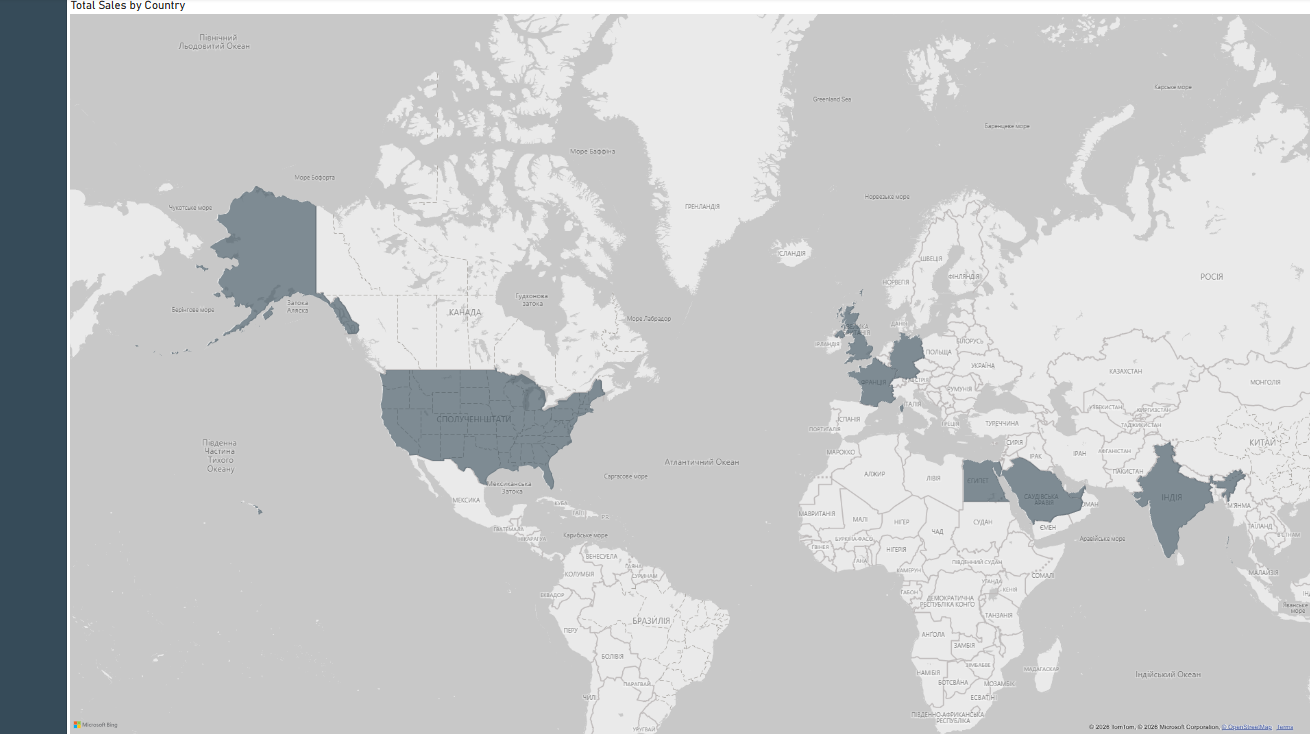

What the dashboard file says about the page in this screenshot:
{"tool":"powerbi","page":{"name":"Map","canvas":[1920,1080],"ordinal":2},"visuals":[{"type":"filledMap","fields":{"Category":["DimGeography.Country"]},"box":[100.7,0,1819.3,1079.6],"z":0},{"type":"shape","box":[0,0,100.7,1079.6],"z":1000}]}

Visuals, with their boxes in screenshot pixels (x1, y1, x2, y2), scaled from the page's 1920x1080 canvas onto the 1310x734 screenshot:
filledMap - DimGeography.Country: 69 0 1309 733
shape: 0 0 69 733
